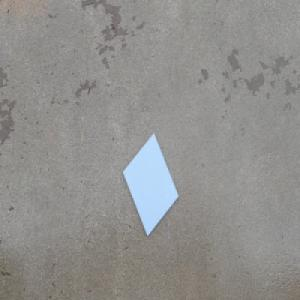PaintChip: (121, 131, 179, 237)
